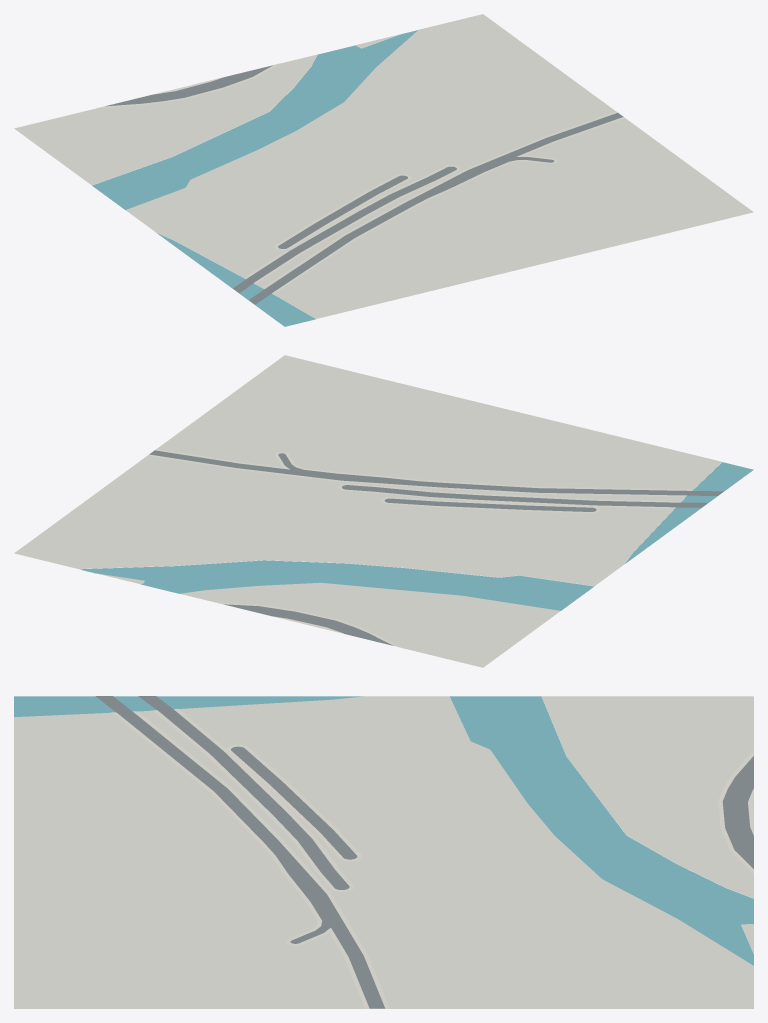
3 renders of one model, top to bottom at view 1: azimuth 30°, elevation 25°; view 2: azimuth 150°, elevation 25°; view 3: azimuth 270°, elevation 25°, orthographic. The views are drawn at different scales.
Visible parts, largest first — view 1: city; view 2: city; view 3: city.
Boxes of the visible parts, box(x1,y1,x2,y2) form: city: box(14, 14, 753, 326); city: box(14, 355, 753, 667); city: box(14, 696, 753, 1008).
Size of the model in its own units: 500 by 0.4 by 500.
